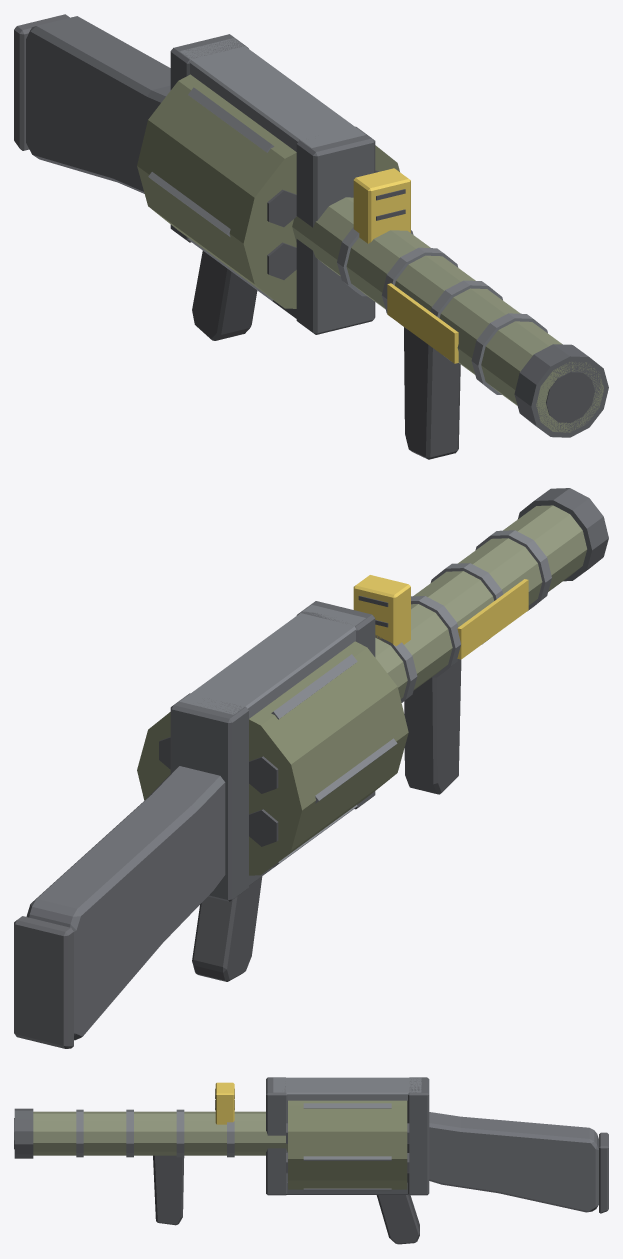
File: weapon_mule_launcher.fbx
The picture shows the model from 3 angles, top to bottom: view 1: azimuth 30°, elevation 25°; view 2: azimuth 150°, elevation 25°; view 3: azimuth 270°, elevation 25°; orthographic projection. The views are drawn at different scales.
Parts seen in each view (by area): view 1: weapon_mule_launcher; view 2: weapon_mule_launcher; view 3: weapon_mule_launcher.
Boxes of the visible parts, box(x1,y1,x2,y2) form: weapon_mule_launcher: box(14, 14, 608, 459); weapon_mule_launcher: box(14, 488, 608, 1048); weapon_mule_launcher: box(14, 1077, 608, 1244).
Size of the model in its own units: 0.176 by 0.2727 by 0.947.
